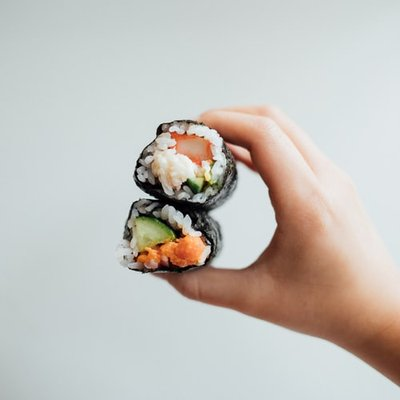pizza: (145, 105, 400, 393)
